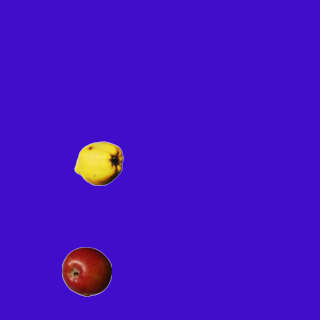Apple Braeburn: (61, 246, 111, 296)
Quince: (73, 138, 123, 188)
